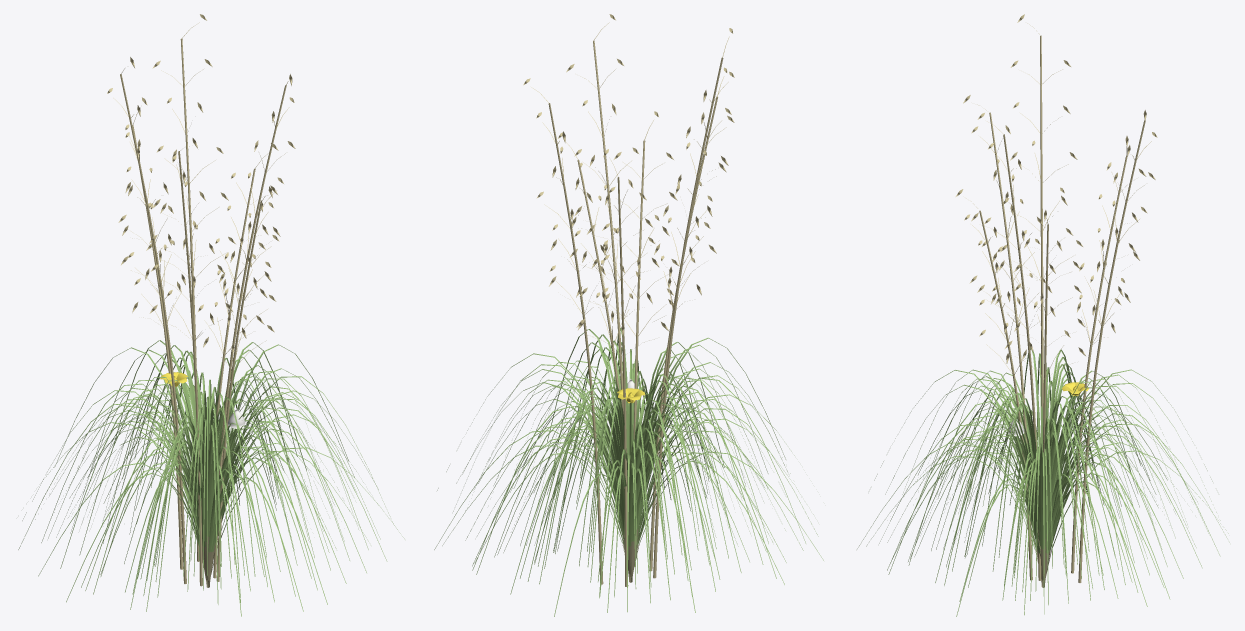
Rendered from meadow-tussock-v1.glb.
The picture shows the model from 3 angles, left to right: view 1: azimuth 30°, elevation 25°; view 2: azimuth 150°, elevation 25°; view 3: azimuth 270°, elevation 25°; orthographic projection. The views are drawn at different scales.
Parts seen in each view (by area): view 1: flowers, seed-heads; view 2: flowers, seed-heads; view 3: flowers, seed-heads.
Part boxes in pixels (box(x1,y1,x2,y2)): flowers: box(18, 340, 404, 616); seed-heads: box(107, 14, 295, 586); flowers: box(434, 328, 823, 616); seed-heads: box(523, 14, 734, 586); flowers: box(857, 348, 1229, 616); seed-heads: box(955, 14, 1157, 582).
Size of the model in its own units: 0.3779 by 0.5983 by 0.3805.
4 materials, 4 textured.
